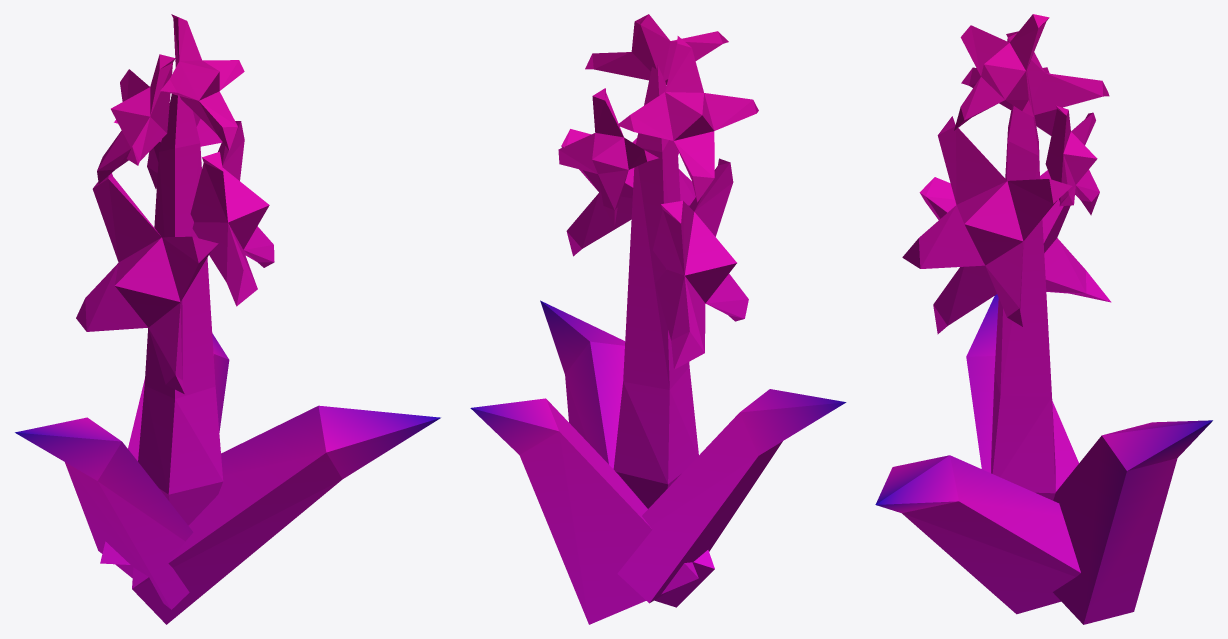
File: synty-plant-03.gltf
3 views of the same model, side by side, from view 1: azimuth 30°, elevation 25°; view 2: azimuth 150°, elevation 25°; view 3: azimuth 270°, elevation 25° (orthographic). The views are drawn at different scales.
Visible parts, largest first — view 1: SM_Plant_03; view 2: SM_Plant_03; view 3: SM_Plant_03.
Boxes of the visible parts, x1,y1,x2,y2 form: SM_Plant_03: (15, 14, 440, 624); SM_Plant_03: (470, 14, 846, 624); SM_Plant_03: (875, 14, 1212, 624).
Bounding box in the file's own units: 0.5243 × 0.8136 × 0.4086.
